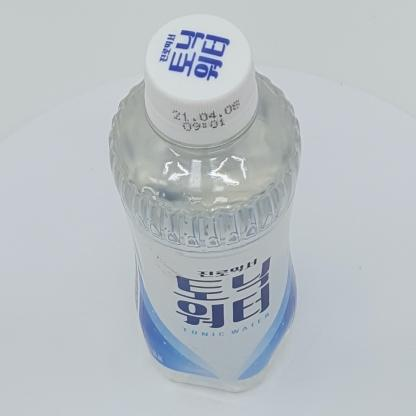----------300ML: (108, 13, 302, 392)
